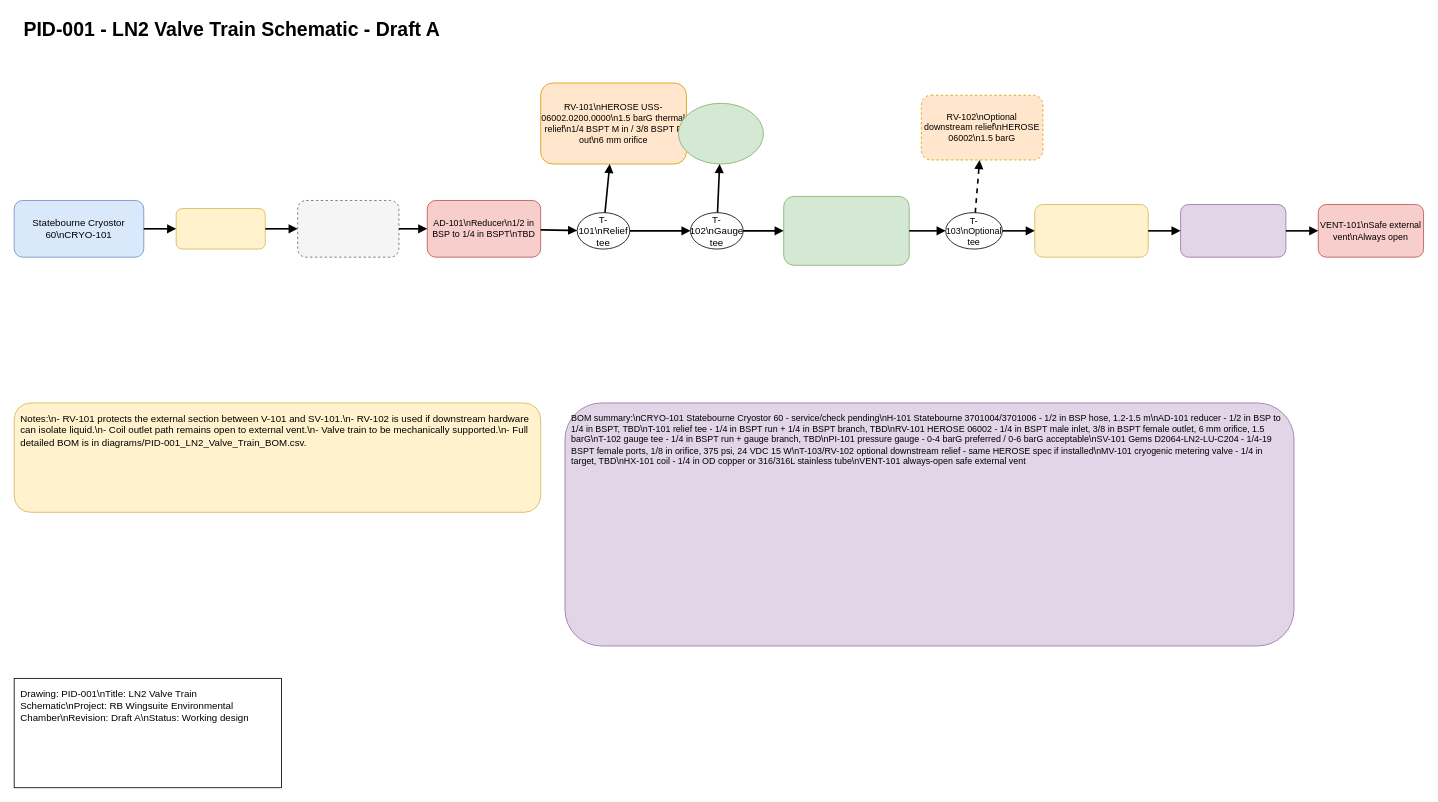
Some shapes in this 1438 by 802 pixel diagram are drawn without their labels. The box of each missing label's shape, as (x1, y1, x2, y2) in pixels:
H-101\nStatebourne LN2 hose\n1/2 in BSP: (297, 200, 399, 257)
HX-101\nInternal cooling coil\n1/4 in tube target: (1180, 204, 1286, 257)
MV-101\nCryogenic metering valve\nTBD: (1034, 204, 1148, 257)
PI-101\nLocal pressure gauge\n0-4 or 0-6 barG\n1/4 BSP/BSPT target: (678, 102, 763, 164)
SV-101\nGems D2064-LN2-LU-C204\n24 VDC NC solenoid\n1/4-19 BSPT F x F: (783, 196, 909, 265)
V-101\nIntegral liquid outlet valve: (175, 208, 265, 249)
